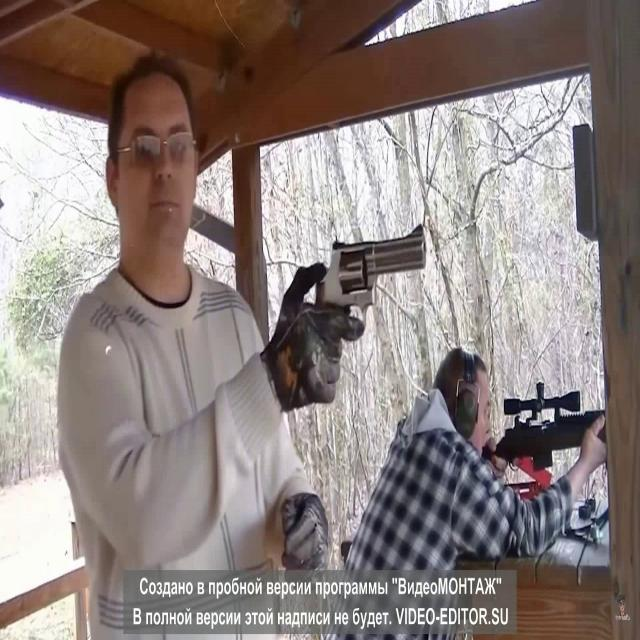pistol: (310, 221, 426, 400), (491, 381, 618, 493)
